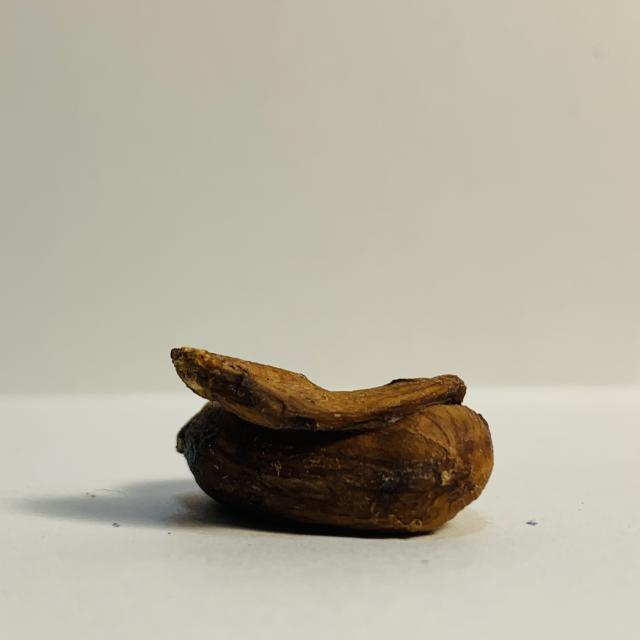Agglomerated_cocoabeans: (63, 337, 582, 577)
